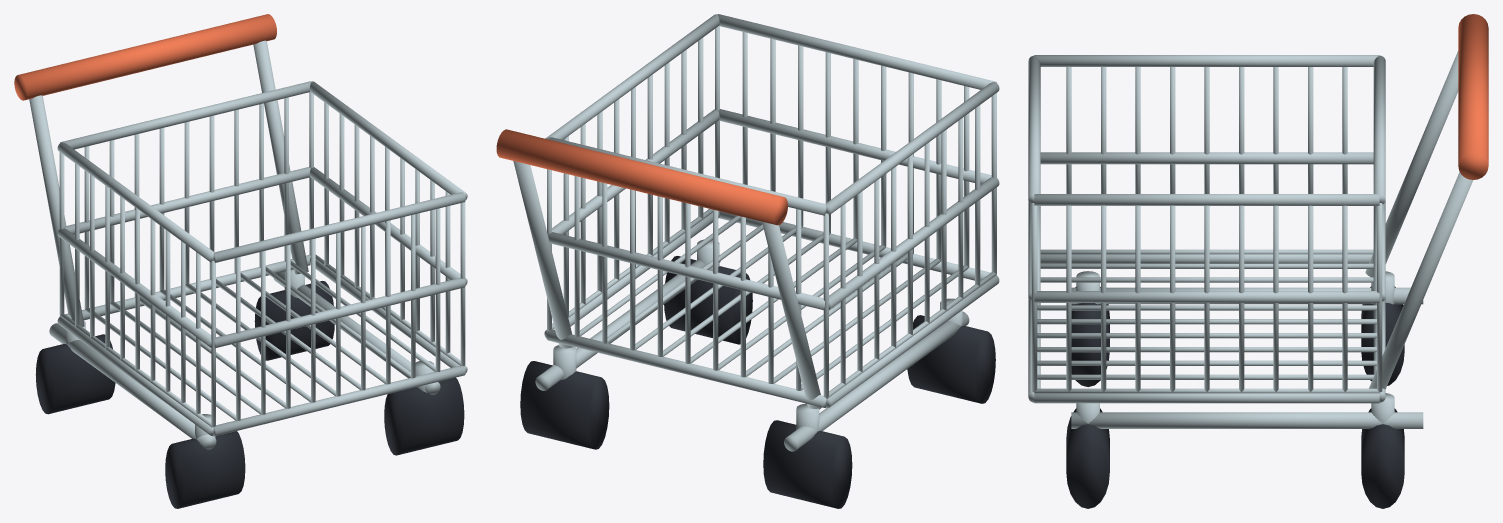
File: shopping-cart.glb
3 renders of one model, left to right at view 1: azimuth 30°, elevation 25°; view 2: azimuth 150°, elevation 25°; view 3: azimuth 270°, elevation 25°, orthographic. The views are drawn at different scales.
Parts seen in each view (by area): view 1: Coral handle, Wheel, Wheel.002, Wheel.001, Basket frame.010, Basket frame.002, Basket frame.006, Basket frame.011, Handle support, Handle support.001, Chassis, Wheel.003 (+58 smaller); view 2: Coral handle, Wheel.001, Wheel.003, Wheel, Basket frame.010, Basket frame.003, Chassis, Basket frame.007, Wheel.002, Handle support, Handle support.001, Basket frame.006 (+58 smaller); view 3: Chassis.001, Coral handle, Basket frame.004, Basket frame.009, Basket frame.005, Basket frame.008, Basket frame.001, Handle support.001, Wheel.002, Wheel.003, Handle support, Basket frame (+38 smaller).
Part boxes in pixels (bbox=[...]): Coral handle: bbox=[14, 14, 276, 100]; Wheel: bbox=[165, 431, 245, 508]; Wheel.002: bbox=[384, 377, 464, 455]; Wheel.001: bbox=[35, 334, 115, 414]; Basket frame.010: bbox=[213, 192, 465, 262]; Basket frame.002: bbox=[213, 365, 465, 436]; Basket frame.006: bbox=[214, 277, 465, 348]; Basket frame.011: bbox=[60, 81, 311, 149]; Handle support: bbox=[29, 95, 84, 326]; Handle support.001: bbox=[253, 40, 308, 274]; Chassis: bbox=[49, 323, 216, 449]; Wheel.003: bbox=[254, 281, 334, 360]; Coral handle: bbox=[496, 129, 787, 225]; Wheel.001: bbox=[763, 420, 852, 508]; Wheel.003: bbox=[520, 361, 609, 449]; Wheel: bbox=[907, 315, 995, 403]; Basket frame.010: bbox=[717, 14, 996, 89]; Basket frame.003: bbox=[546, 329, 826, 407]; Chassis: bbox=[784, 311, 969, 451]; Basket frame.007: bbox=[547, 232, 824, 310]; Wheel.002: bbox=[664, 256, 752, 344]; Handle support: bbox=[762, 221, 821, 409]; Handle support.001: bbox=[513, 161, 572, 348]; Basket frame.006: bbox=[718, 109, 991, 184]; Chassis.001: bbox=[1071, 412, 1423, 428]; Coral handle: bbox=[1458, 14, 1488, 179]; Basket frame.004: bbox=[1040, 152, 1373, 164]; Basket frame.009: bbox=[1034, 194, 1379, 205]; Basket frame.005: bbox=[1034, 291, 1379, 302]; Basket frame.008: bbox=[1034, 55, 1379, 66]; Basket frame.001: bbox=[1034, 393, 1379, 403]; Handle support.001: bbox=[1369, 172, 1473, 389]; Wheel.002: bbox=[1066, 408, 1109, 508]; Wheel.003: bbox=[1361, 408, 1404, 508]; Handle support: bbox=[1365, 51, 1458, 277]; Basket frame: bbox=[1040, 254, 1372, 263].
Bounding box in the file's own units: 1.1 × 1.14 × 1.37.
